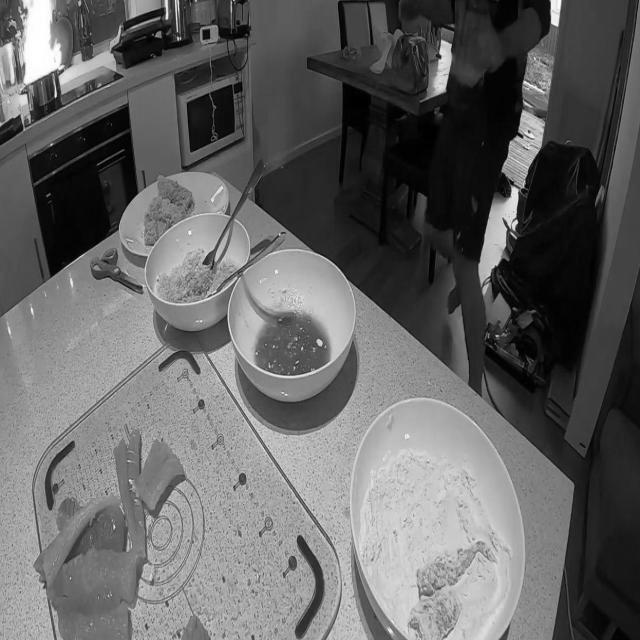smoke: (15, 0, 64, 86)
